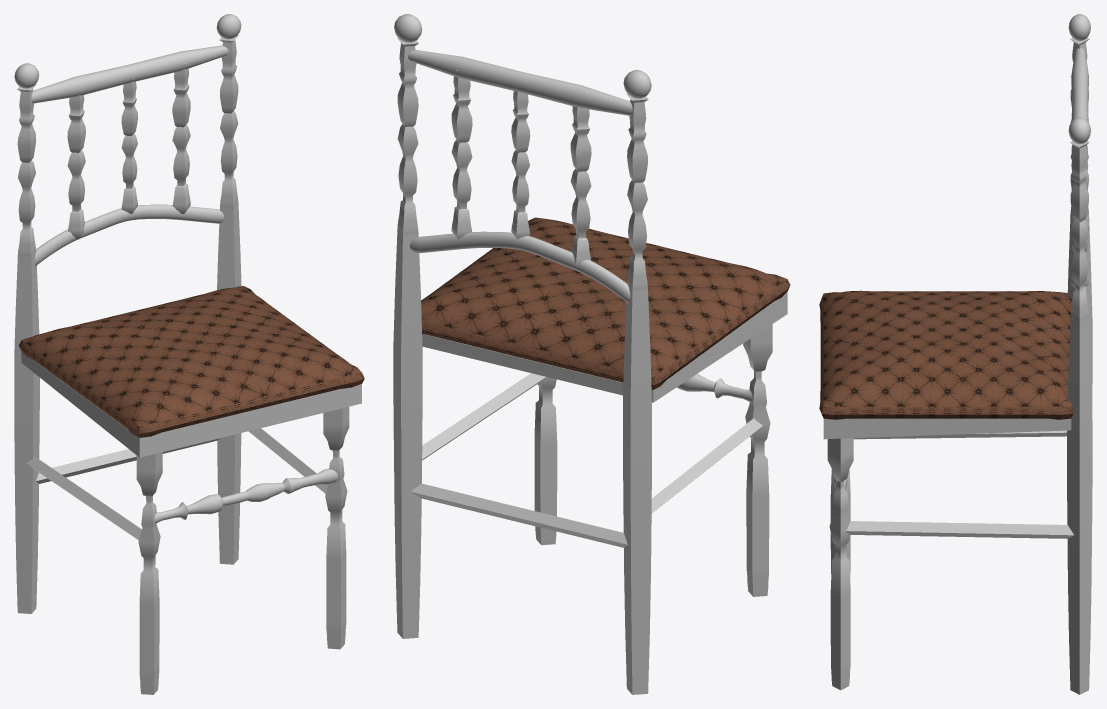
The model's file is Chair 1.fbx.
3 renders of one model, left to right at view 1: azimuth 30°, elevation 25°; view 2: azimuth 150°, elevation 25°; view 3: azimuth 270°, elevation 25°, orthographic. The views are drawn at different scales.
Visible parts, largest first — view 1: Chair_1, Cushion; view 2: Chair_1, Cushion; view 3: Cushion, Chair_1.
Part boxes in pixels (left/top/right/bottom): Chair_1: left=14, top=14, right=361, bottom=694; Cushion: left=18, top=286, right=364, bottom=437; Chair_1: left=393, top=14, right=787, bottom=694; Cushion: left=421, top=217, right=790, bottom=389; Cushion: left=819, top=290, right=1074, bottom=419; Chair_1: left=823, top=14, right=1092, bottom=694.
Bounding box in the file's own units: 44.85 × 102 × 44.25.
